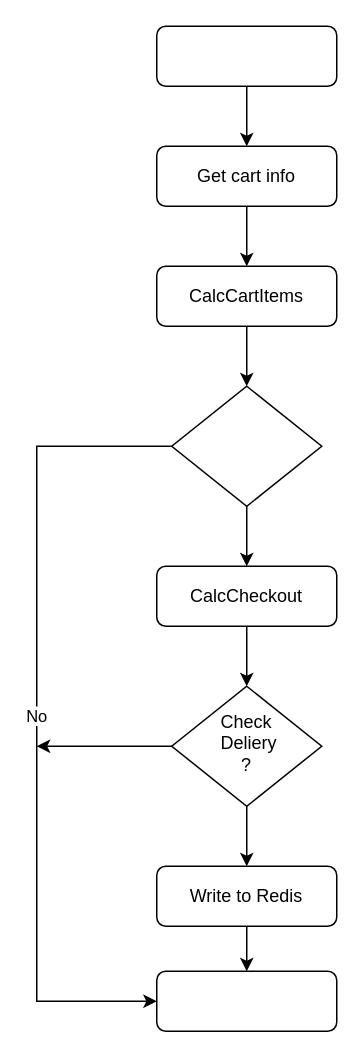
Image size: 363x1058. Some labels were removed from this diagram. Each missing label, with the box of its shape:
Check cart sku available?: (170, 385, 322, 506)
End: (155, 970, 337, 1031)
Generate checkout: (155, 25, 337, 86)
